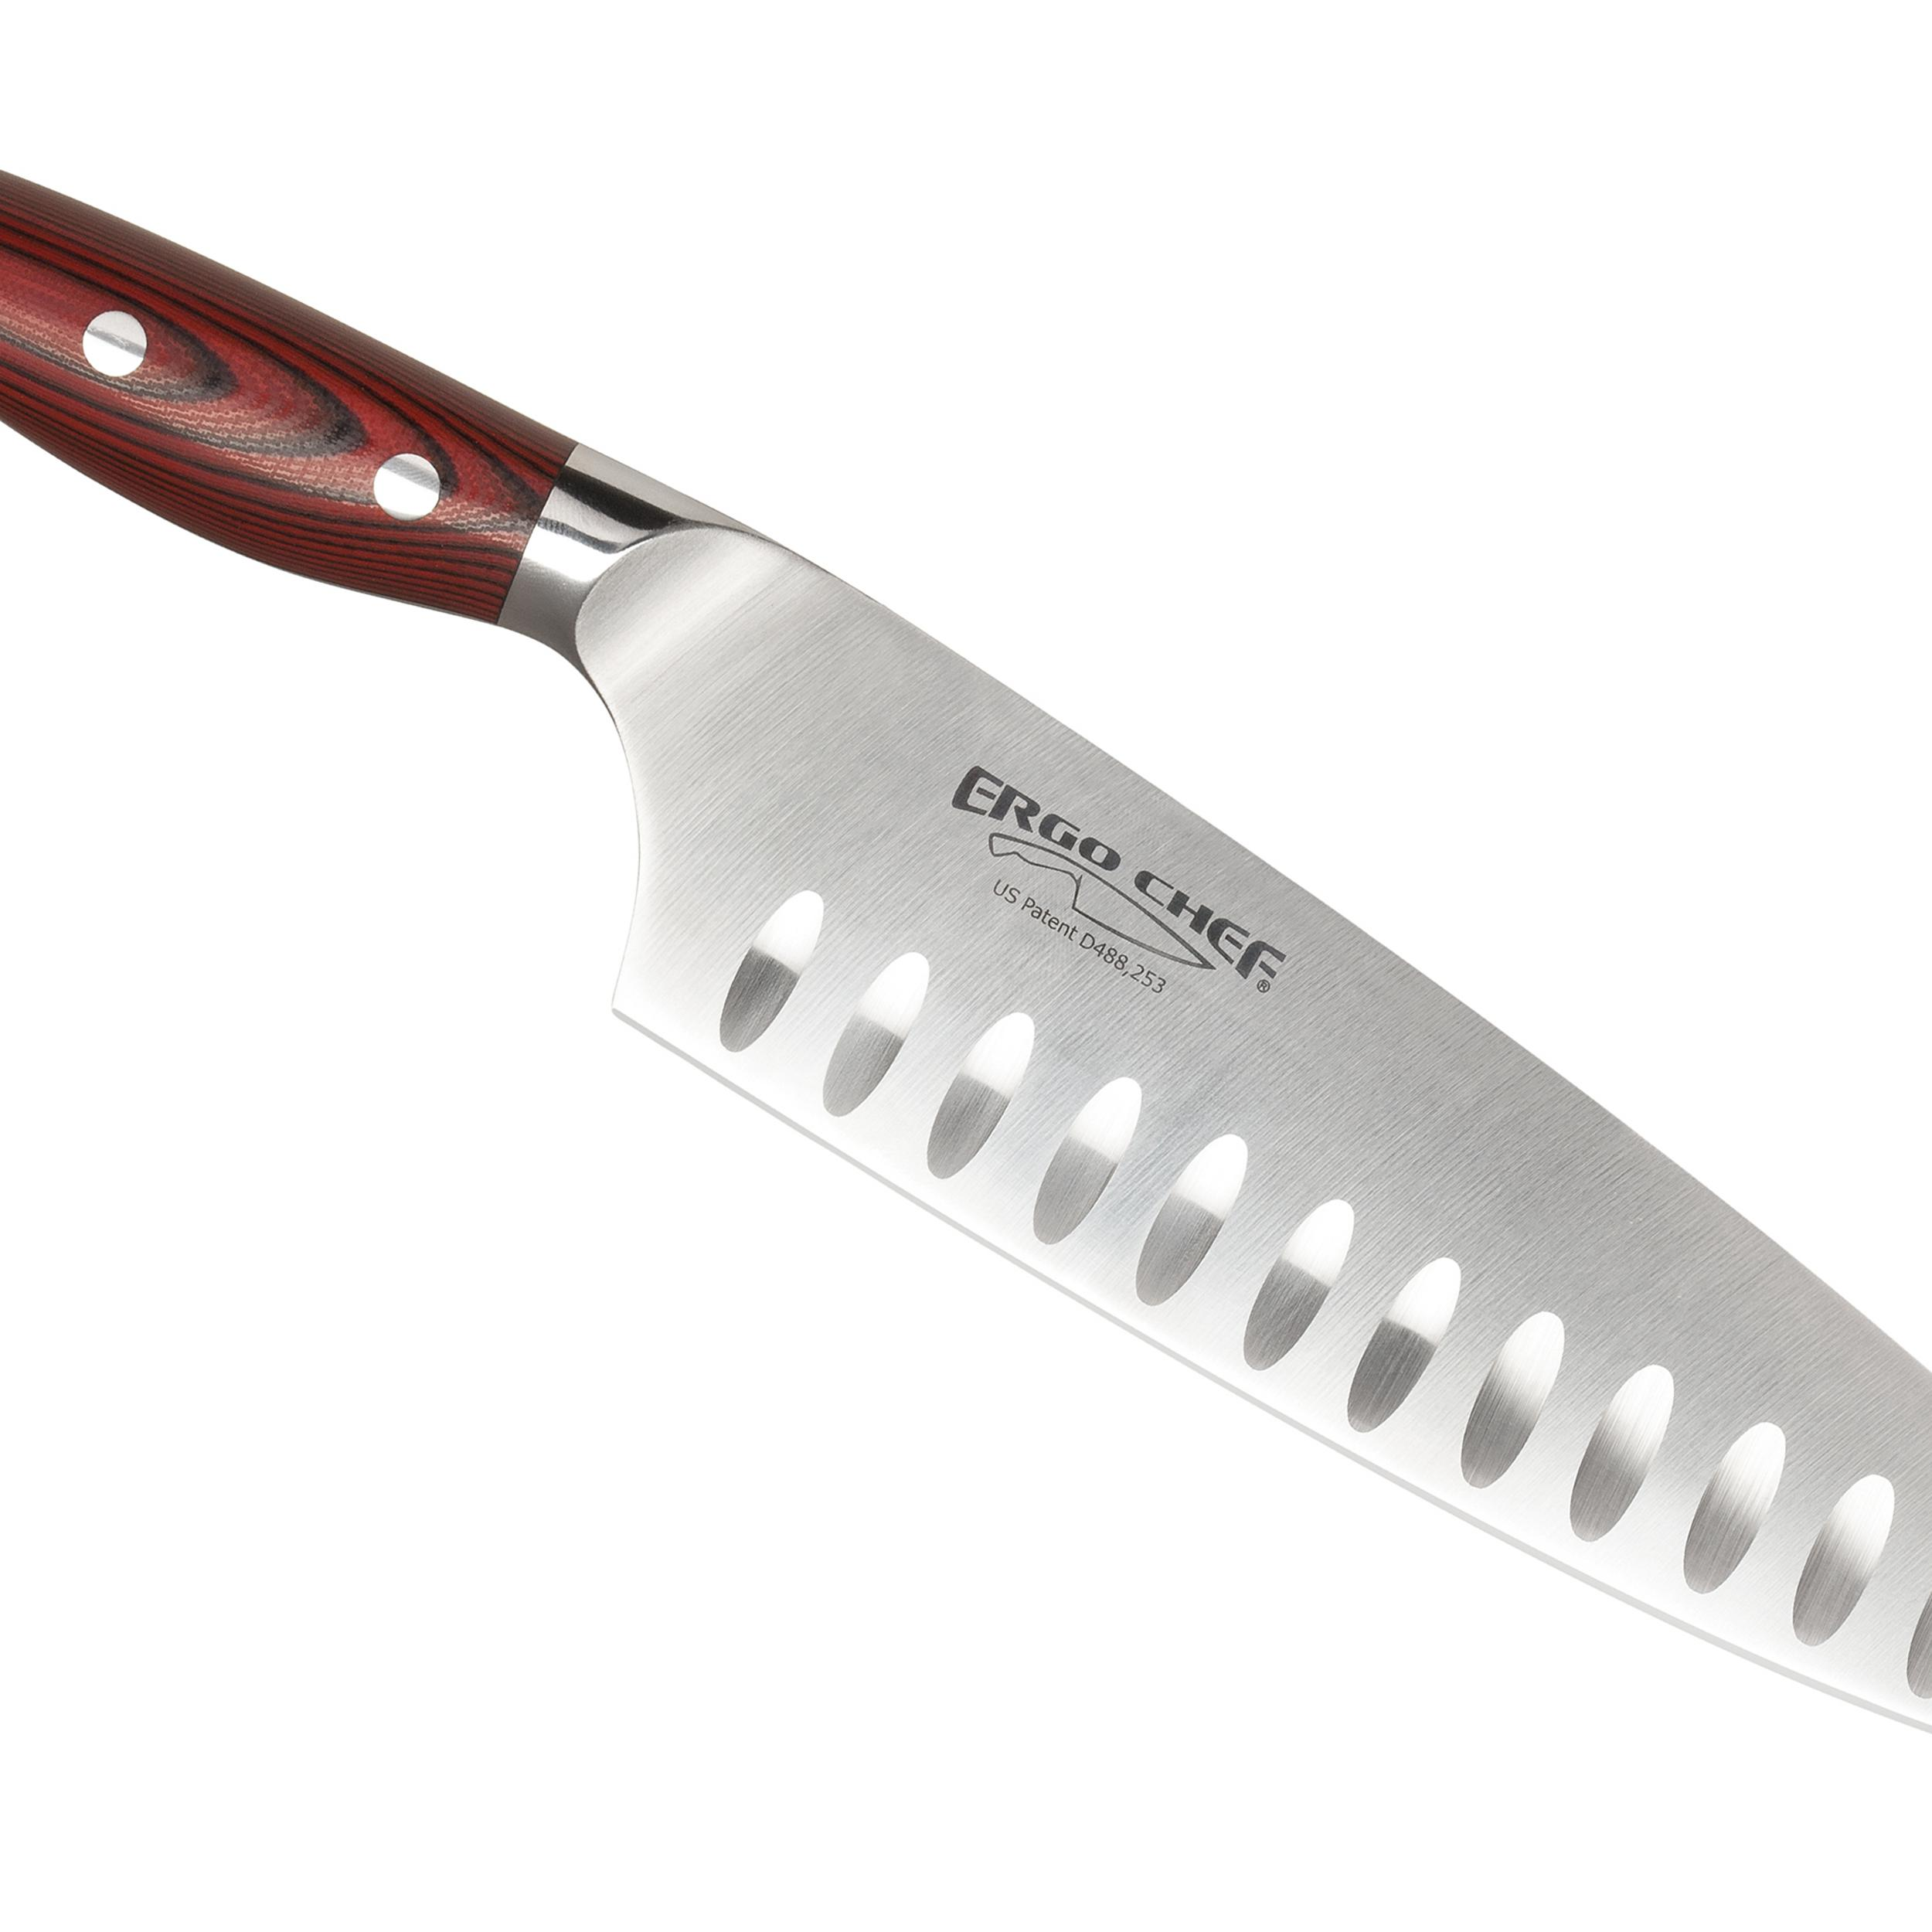knife: (4, 159, 1932, 1730)
